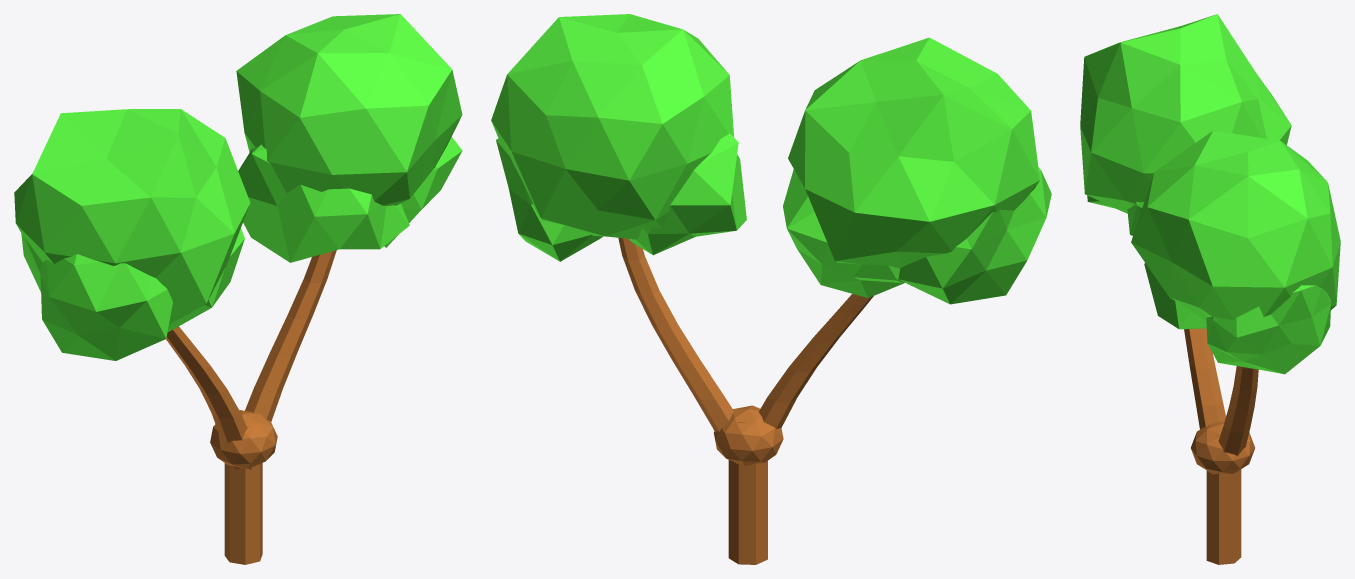
The model's file is tree3.fbx.
The picture shows the model from 3 angles, left to right: view 1: azimuth 30°, elevation 25°; view 2: azimuth 150°, elevation 25°; view 3: azimuth 270°, elevation 25°; orthographic projection. The views are drawn at different scales.
Visible parts, largest first — view 1: Branch; view 2: Branch; view 3: Branch.
Part boxes in pixels (x1,y1,x2,y2): Branch: (14, 14, 462, 564); Branch: (491, 14, 1051, 564); Branch: (1080, 14, 1340, 564).
Bounding box in the file's own units: 718 × 731 × 371.
